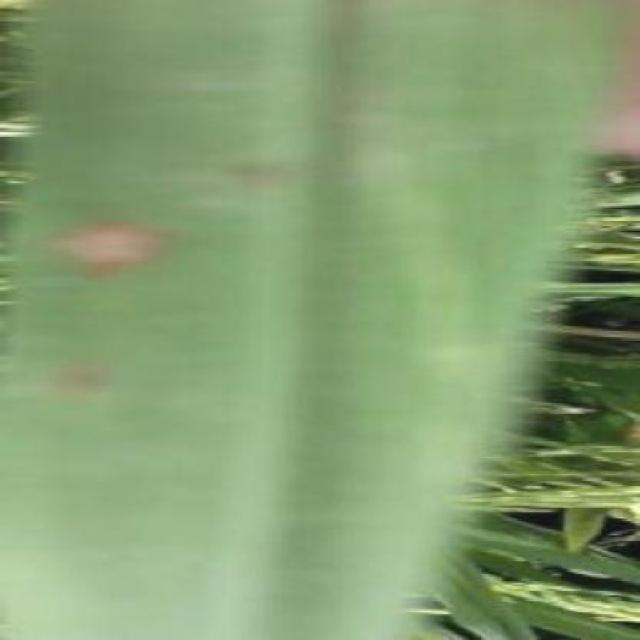Bacterial_Leaf_Blight: (35, 162, 180, 288)
